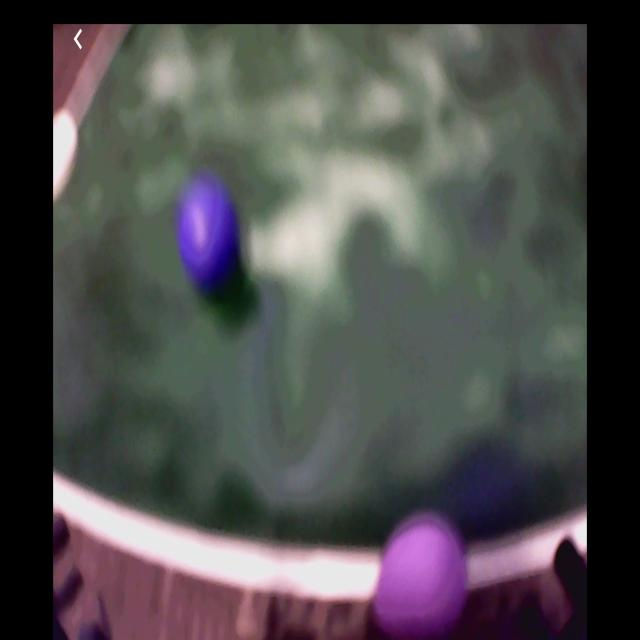ball: (374, 513, 466, 634), (174, 173, 242, 292)
